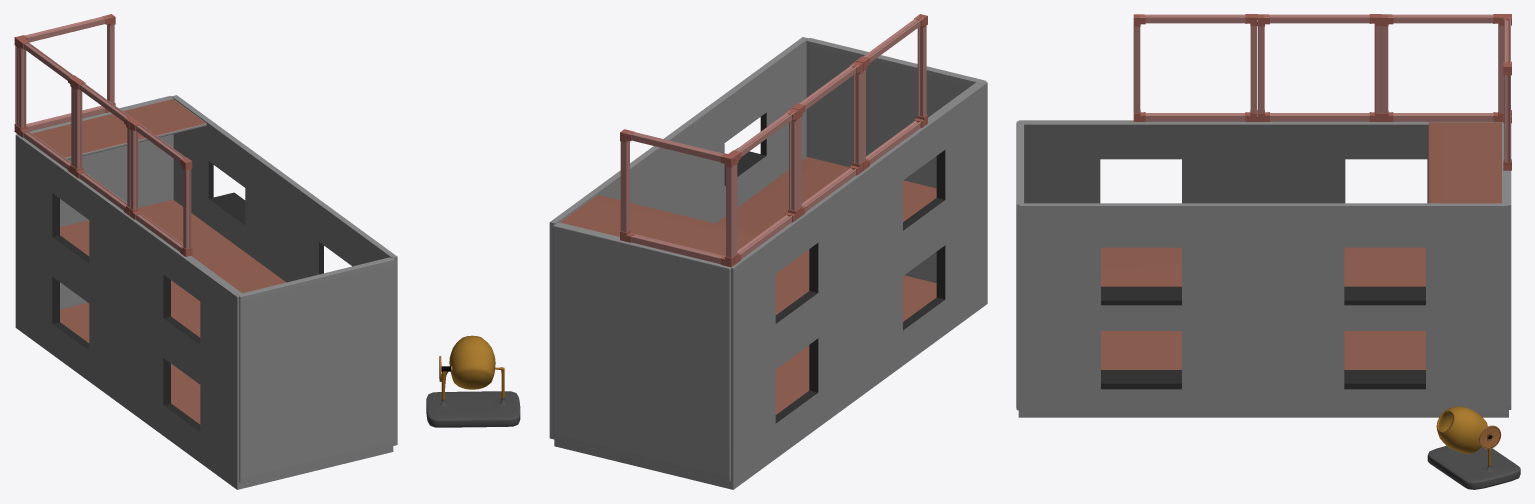
File: step2.fbx
3 renders of one model, left to right at view 1: azimuth 30°, elevation 25°; view 2: azimuth 150°, elevation 25°; view 3: azimuth 270°, elevation 25°, orthographic. The views are drawn at different scales.
Parts seen in each view (by area): view 1: Cube.024, Cube.025, Cube.001, Cube, Cube.033, Cube.010, Cube.012, Cube.018, Cube.004, Cube.036, Cube.026, Cube.027 (+6 smaller); view 2: Cube.024, Cube, Cube.025, Cube.033, Cube.001, Cube.038, Plane, Cube.036, Cube.026, Cube.002, Cube.027, Cube.010 (+8 smaller); view 3: Cube.001, Cube.033, Cube.024, Cube, Cube.038, Plane, Cube.025, Cube.023, Cube.035, Cube.009, Cube.017, Cube.011 (+8 smaller).
Boxes of the visible parts, bbox=[...] form: Cube.024: bbox=[15, 134, 393, 489]; Cube.025: bbox=[237, 257, 394, 482]; Cube.001: bbox=[171, 95, 287, 278]; Cube: bbox=[16, 96, 206, 309]; Cube.033: bbox=[282, 176, 397, 445]; Cube.010: bbox=[183, 169, 191, 256]; Cube.012: bbox=[130, 130, 138, 210]; Cube.018: bbox=[18, 48, 26, 127]; Cube.004: bbox=[74, 89, 82, 168]; Cube.036: bbox=[25, 15, 109, 42]; Cube.026: bbox=[107, 24, 114, 103]; Cube.027: bbox=[26, 105, 105, 131]; Cube.024: bbox=[554, 82, 987, 489]; Cube: bbox=[553, 194, 759, 481]; Cube.025: bbox=[806, 38, 986, 282]; Cube.033: bbox=[677, 37, 808, 223]; Cube.001: bbox=[549, 129, 682, 438]; Cube.038: bbox=[426, 367, 520, 427]; Plane: bbox=[449, 335, 495, 389]; Cube.036: bbox=[626, 130, 723, 162]; Cube.026: bbox=[620, 141, 629, 232]; Cube.002: bbox=[853, 73, 862, 164]; Cube.027: bbox=[631, 234, 723, 264]; Cube.010: bbox=[917, 26, 926, 116]; Cube.001: bbox=[1262, 203, 1507, 414]; Cube.033: bbox=[1019, 203, 1262, 414]; Cube.024: bbox=[1018, 120, 1508, 417]; Cube: bbox=[1428, 122, 1511, 409]; Cube.038: bbox=[1427, 446, 1520, 489]; Plane: bbox=[1436, 406, 1487, 453]; Cube.025: bbox=[1016, 121, 1024, 410]; Cube.023: bbox=[1387, 14, 1493, 23]; Cube.035: bbox=[1139, 14, 1245, 23]; Cube.009: bbox=[1264, 14, 1369, 23]; Cube.017: bbox=[1393, 113, 1493, 121]; Cube.011: bbox=[1145, 113, 1245, 121].
Bounding box in the file's own units: 2292 × 2282 × 3212.
